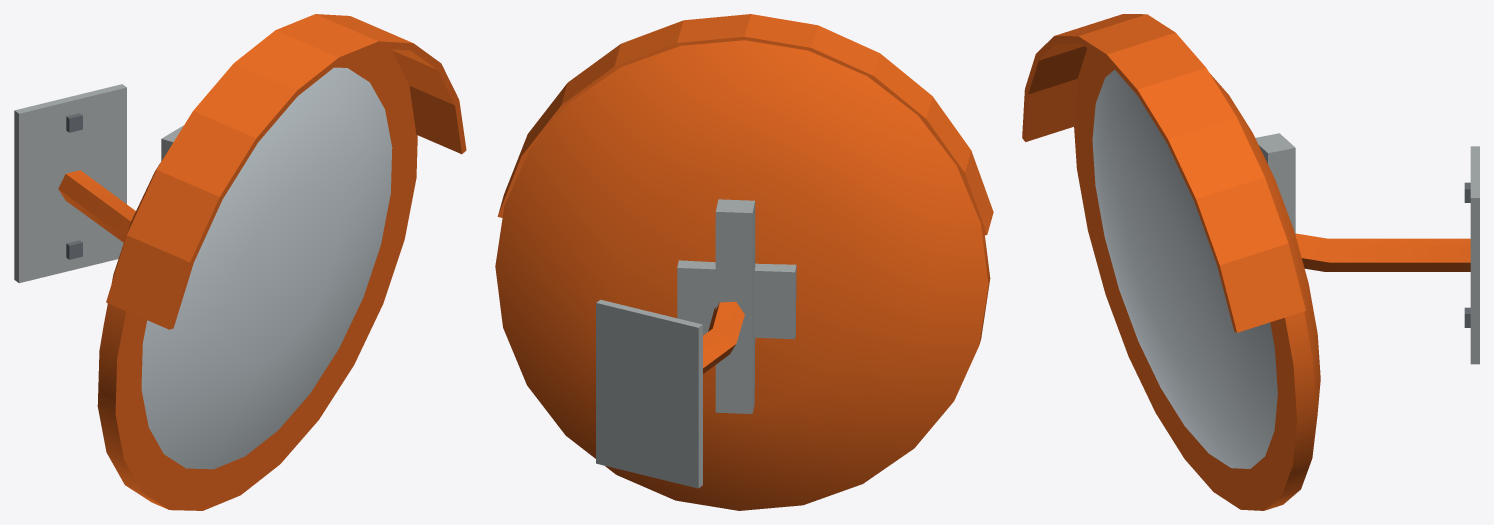
File: SC_Util_Mirror_Convex_Wall.gltf
3 views of the same model, side by side, from view 1: azimuth 30°, elevation 25°; view 2: azimuth 150°, elevation 25°; view 3: azimuth 270°, elevation 25° (orthographic). The views are drawn at different scales.
Parts seen in each view (by area): view 1: SC_Util_Mirror_Convex_Wall; view 2: SC_Util_Mirror_Convex_Wall; view 3: SC_Util_Mirror_Convex_Wall.
Part boxes in pixels (x1,y1,x2,y2): SC_Util_Mirror_Convex_Wall: (14,14,466,510); SC_Util_Mirror_Convex_Wall: (495,14,993,510); SC_Util_Mirror_Convex_Wall: (1022,14,1479,510).
Size of the model in its own units: 0.6506 by 0.6734 by 0.5983.
Materials: 1 (1 with a texture image).
